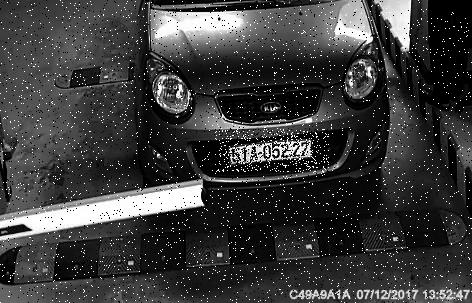License-plate: (221, 130, 331, 173)
